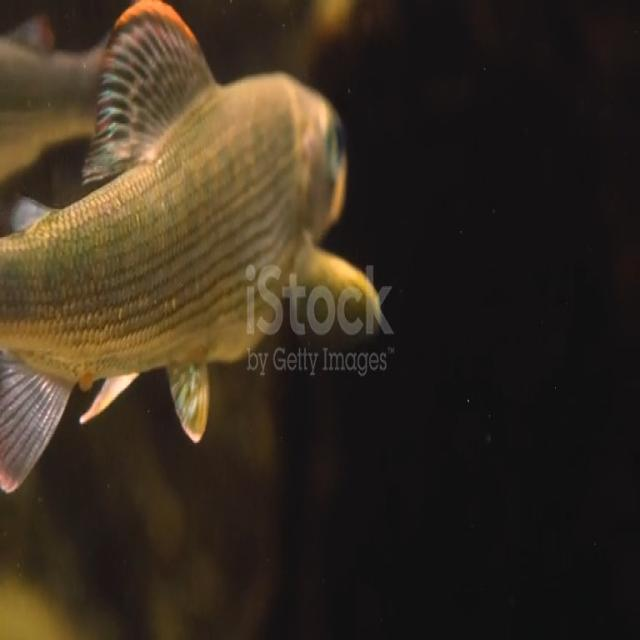fish: (0, 1, 380, 489)
